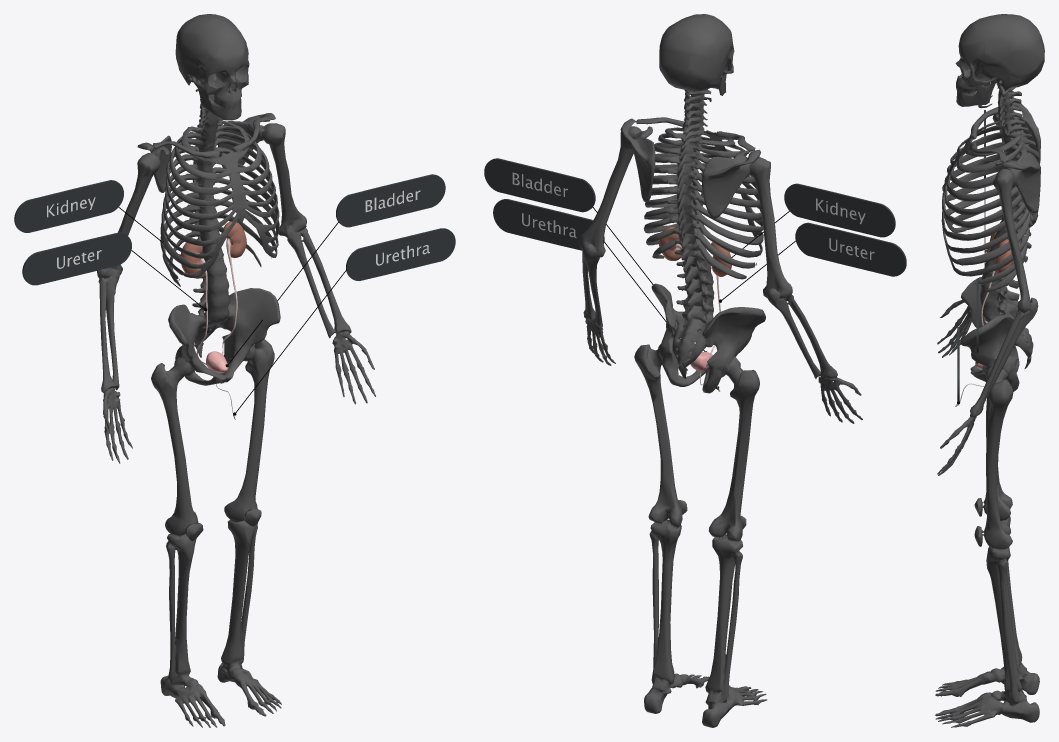
The model's file is urinary_system.glb.
The picture shows the model from 3 angles, left to right: view 1: azimuth 30°, elevation 25°; view 2: azimuth 150°, elevation 25°; view 3: azimuth 270°, elevation 25°; orthographic projection.
Visible parts, largest first — view 1: SkeletonV2_3, LabelGroup2_4, urinarySystem_stingray:urinarySystem_1; view 2: SkeletonV2_3, LabelGroup2_4, urinarySystem_stingray:urinarySystem_1; view 3: SkeletonV2_3, LabelGroup2_4, urinarySystem_stingray:urinarySystem_1.
Part boxes in pixels (x1,y1,x2,y2): SkeletonV2_3: (97,14,375,727); LabelGroup2_4: (14,174,455,415); urinarySystem_stingray:urinarySystem_1: (181,221,246,419); SkeletonV2_3: (579,14,862,727); LabelGroup2_4: (484,158,906,389); urinarySystem_stingray:urinarySystem_1: (659,226,731,391); SkeletonV2_3: (935,14,1044,727); LabelGroup2_4: (957,110,1004,404); urinarySystem_stingray:urinarySystem_1: (955,232,1012,406).
Size of the model in its own units: 1.15 by 1.78 by 0.2566.
5 materials, 1 textured.
